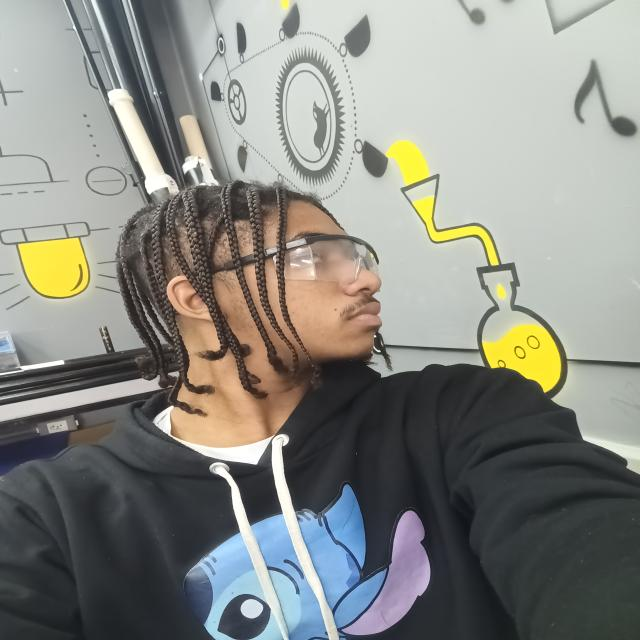oculos-epi: (210, 234, 379, 283)
